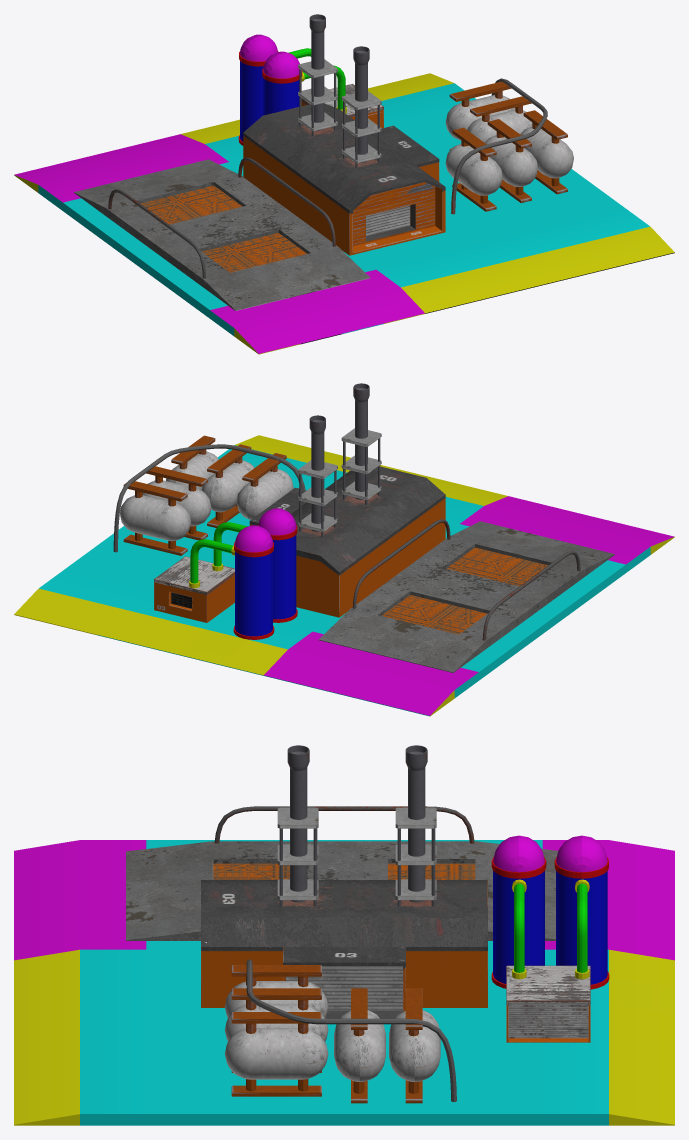
Rendered from Refinery.fbx.
The picture shows the model from 3 angles, top to bottom: view 1: azimuth 30°, elevation 25°; view 2: azimuth 150°, elevation 25°; view 3: azimuth 270°, elevation 25°; orthographic projection. The views are drawn at different scales.
Parts seen in each view (by area): view 1: Ground_Mesh, DropoffPad_Mesh, MainBuilding_Mesh, TankArray_Mesh, Smokestacks_Mesh, LargeStorageTanks_Mesh, DropoffPad_GuardRail_Mesh, SecondaryBuilding_Mesh; view 2: Ground_Mesh, DropoffPad_Mesh, MainBuilding_Mesh, TankArray_Mesh, LargeStorageTanks_Mesh, Smokestacks_Mesh, SecondaryBuilding_Mesh, DropoffPad_GuardRail_Mesh; view 3: Ground_Mesh, MainBuilding_Mesh, TankArray_Mesh, DropoffPad_Mesh, LargeStorageTanks_Mesh, Smokestacks_Mesh, SecondaryBuilding_Mesh, DropoffPad_GuardRail_Mesh.
Part boxes in pixels (x1,y1,x2,y2): Ground_Mesh: (14, 73, 674, 354); DropoffPad_Mesh: (74, 159, 370, 310); MainBuilding_Mesh: (243, 103, 445, 255); TankArray_Mesh: (445, 78, 573, 214); Smokestacks_Mesh: (298, 14, 381, 167); LargeStorageTanks_Mesh: (238, 34, 346, 145); DropoffPad_GuardRail_Mesh: (108, 157, 335, 278); SecondaryBuilding_Mesh: (301, 84, 383, 128); Ground_Mesh: (14, 435, 674, 716); DropoffPad_Mesh: (318, 521, 614, 672); MainBuilding_Mesh: (249, 466, 445, 617); TankArray_Mesh: (113, 435, 305, 555); LargeStorageTanks_Mesh: (189, 508, 297, 639); Smokestacks_Mesh: (298, 383, 381, 536); SecondaryBuilding_Mesh: (154, 556, 234, 622); DropoffPad_GuardRail_Mesh: (352, 519, 580, 640); Ground_Mesh: (14, 840, 674, 1125); MainBuilding_Mesh: (201, 880, 487, 1018); TankArray_Mesh: (224, 959, 456, 1103); DropoffPad_Mesh: (126, 841, 558, 940); LargeStorageTanks_Mesh: (491, 835, 609, 989); Smokestacks_Mesh: (277, 745, 436, 906); SecondaryBuilding_Mesh: (506, 965, 590, 1042); DropoffPad_GuardRail_Mesh: (214, 806, 474, 843).
Size of the model in its own units: 2639 by 1072 by 2690.
